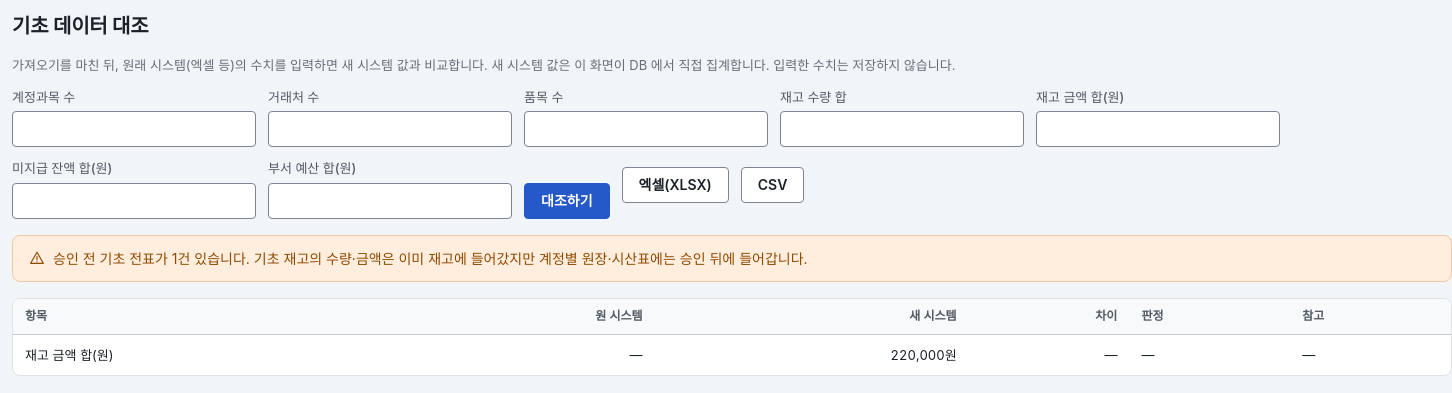
Test: 기초 데이터 대조 화면 › 원 시스템 수치를 넣으면 쿼리로 보내 차이 판정과 원인 안내를 보인다
Check: the text "승인 전 기초 전표가 1건 있습니다" is shown, box left=53, top=248, right=808, bottom=268
Type "250,000" into the field labelled "재고 금액 합(원)" at (1158, 129), box left=1036, top=111, right=1280, bottom=147
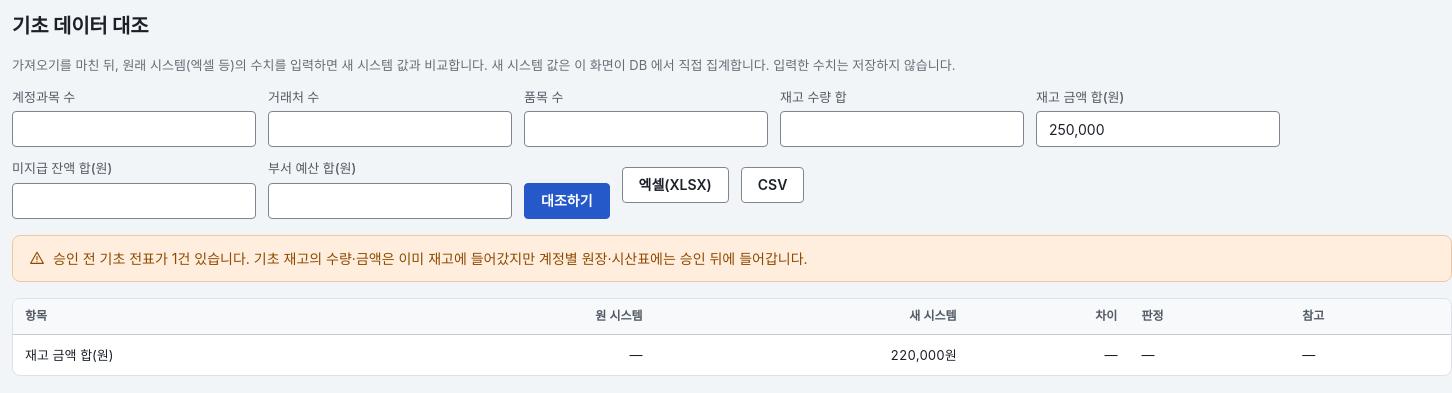
Click the button "대조하기" at (567, 200), box left=524, top=182, right=610, bottom=218
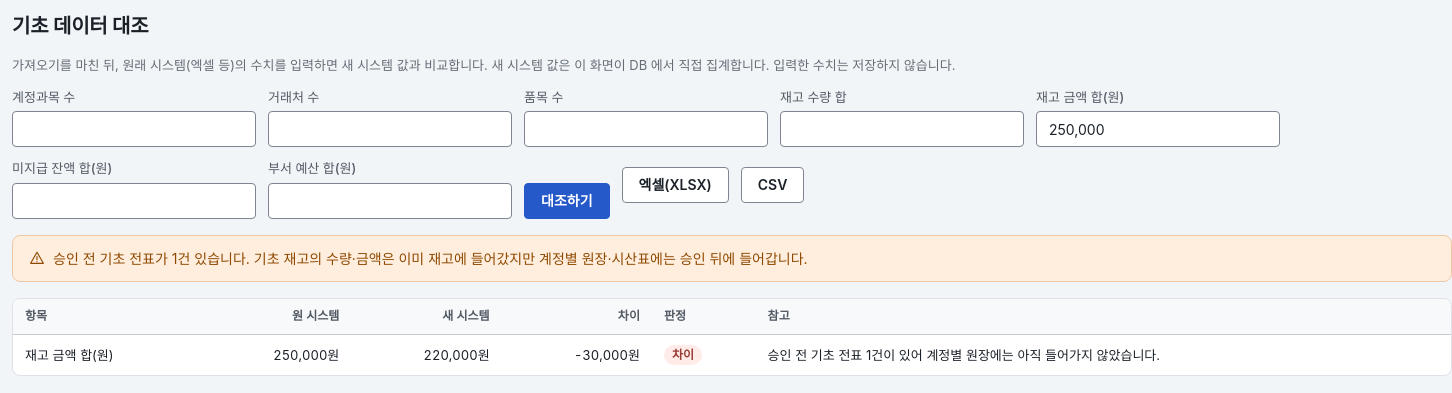
Check: the column heading "차이" is shown, box left=502, top=298, right=652, bottom=334
Check: the text "승인 전 기초 전표 1건이 있어 계정별 원장에는 아직 들어가지 않았습니다." is shown, box left=756, top=334, right=1451, bottom=374
